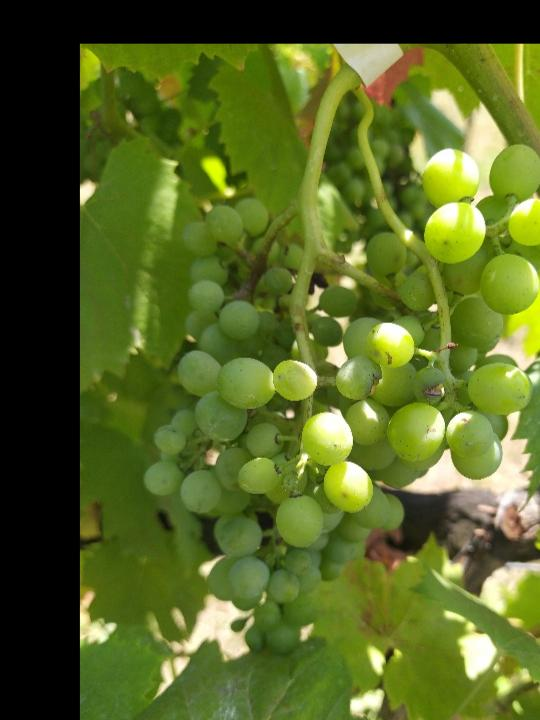grape: (142, 143, 540, 656)
